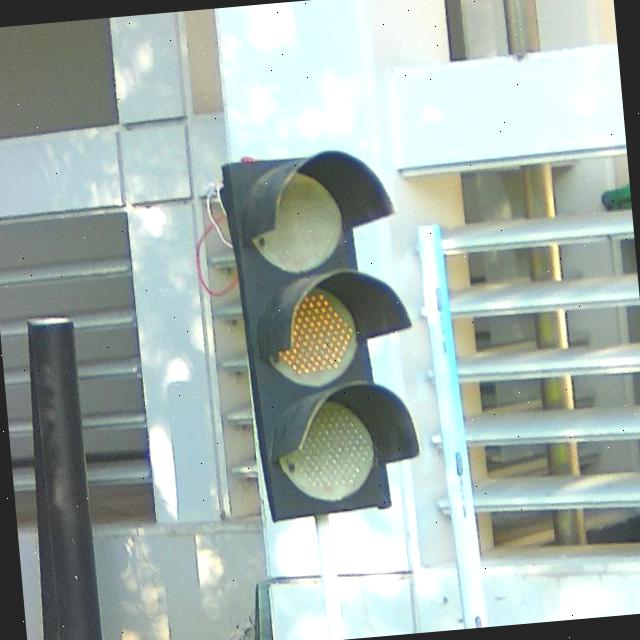yellow_light: (219, 145, 423, 520)
